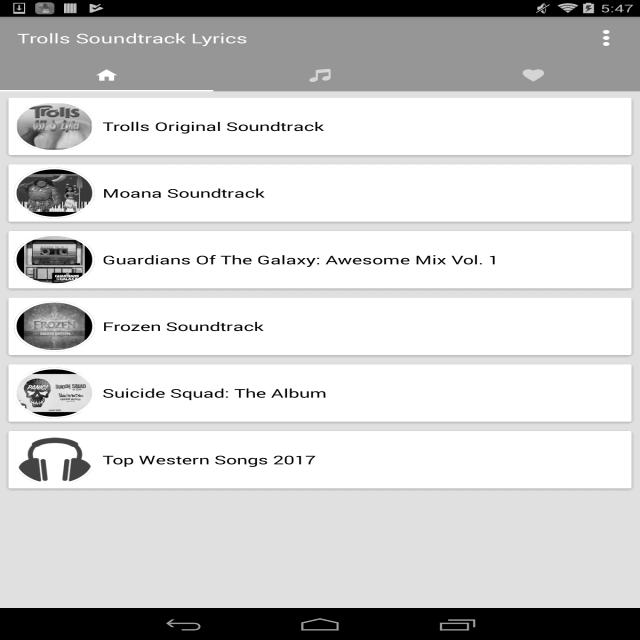ImageView: (12, 166, 97, 220), (12, 366, 97, 420), (12, 100, 97, 153), (12, 233, 97, 286), (12, 300, 97, 353), (12, 433, 97, 486), (426, 89, 640, 91), (0, 89, 213, 91), (307, 68, 333, 84), (94, 68, 119, 84), (521, 68, 546, 84), (213, 90, 427, 91)
TextView: (102, 251, 500, 268), (17, 29, 248, 47), (102, 451, 316, 468), (102, 385, 327, 401), (103, 118, 324, 134), (102, 318, 264, 334), (103, 185, 264, 201), (580, 22, 632, 54)
